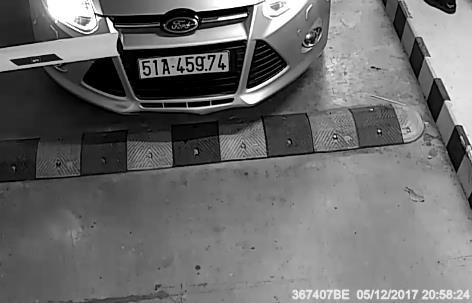License-plate: (127, 52, 244, 85)
